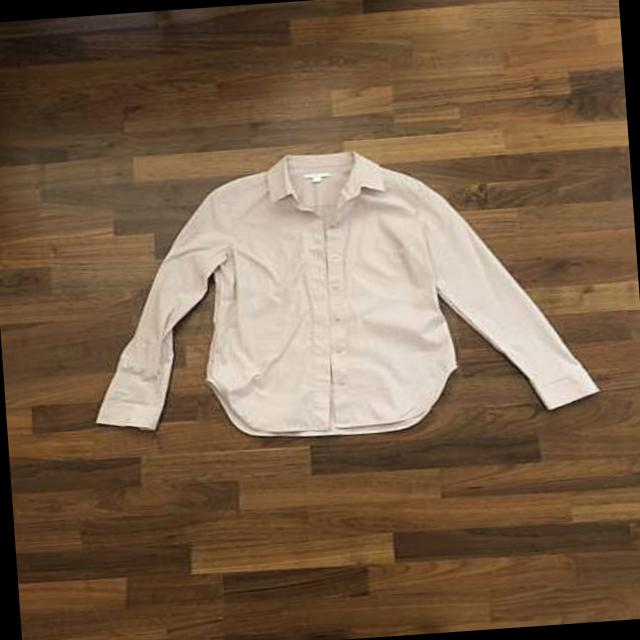SHIRT: (61, 123, 622, 462)
